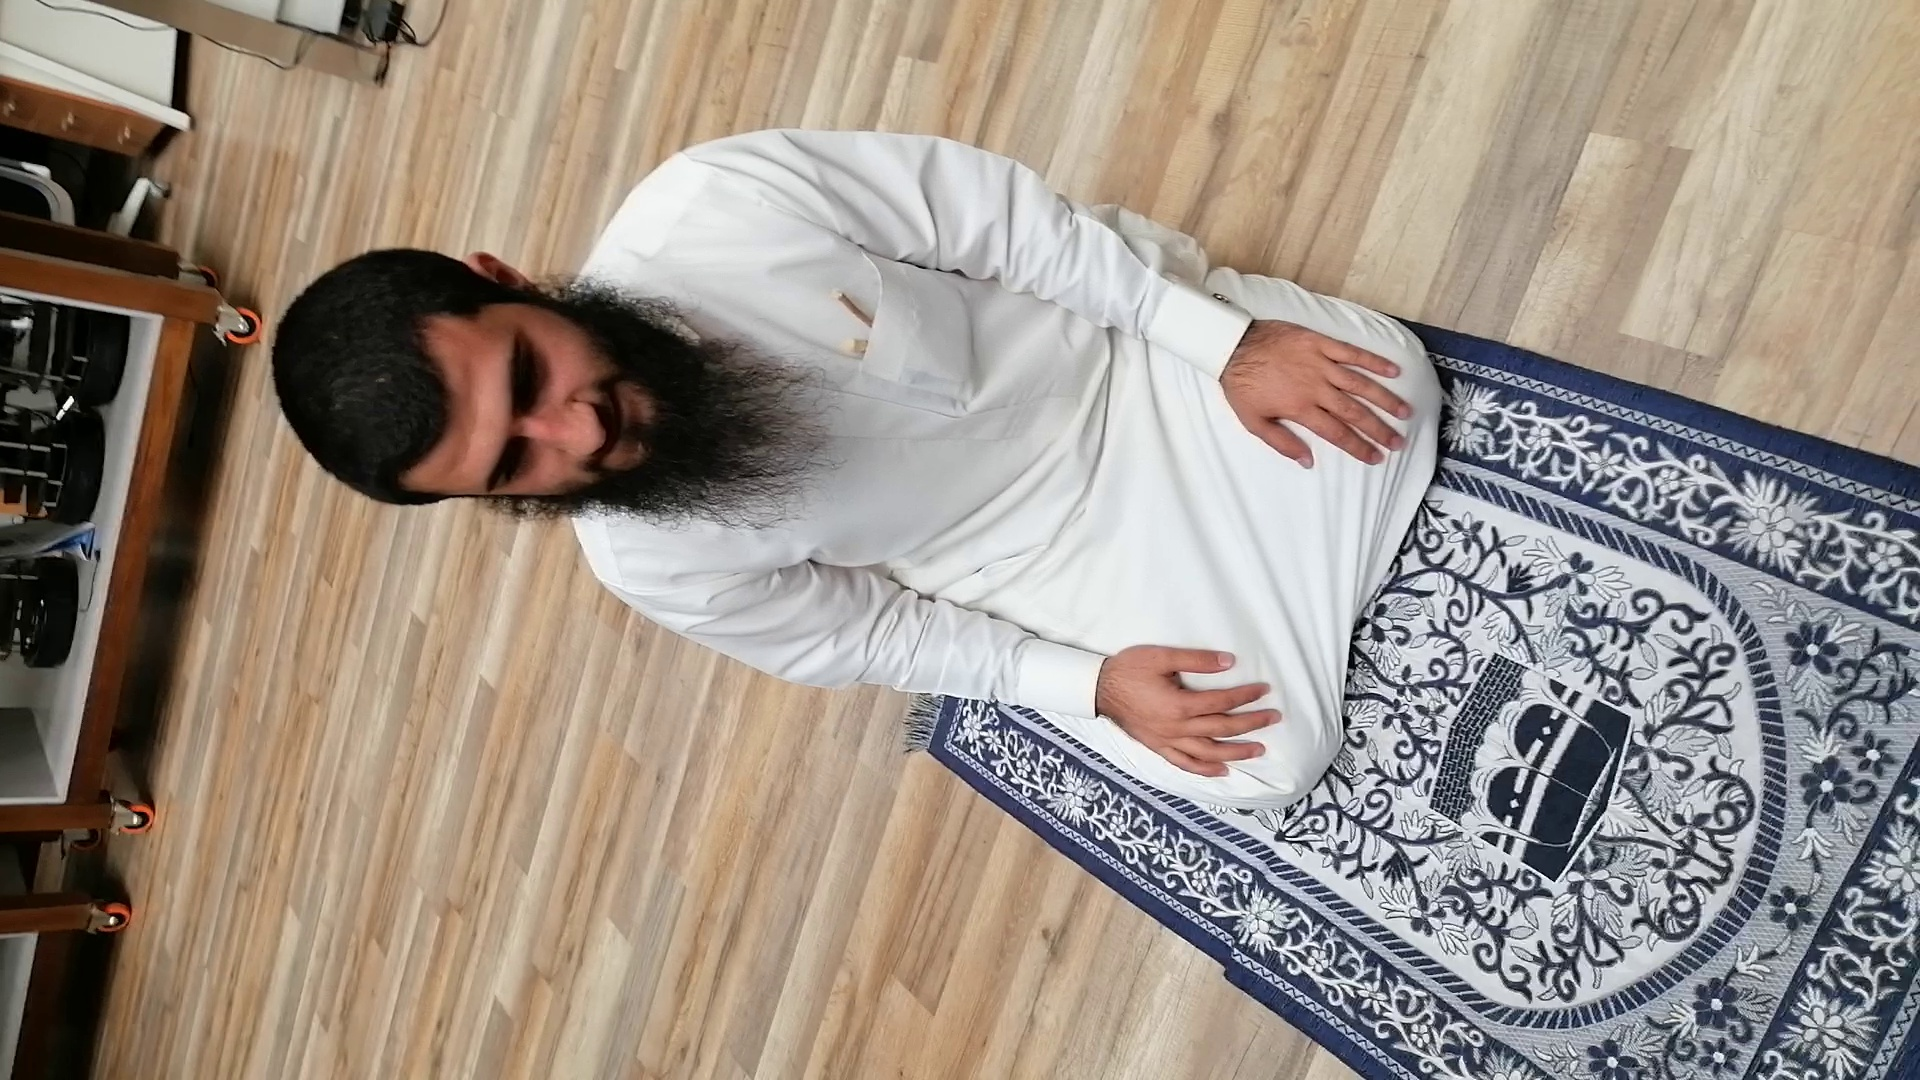sitting: (258, 112, 1505, 816)
